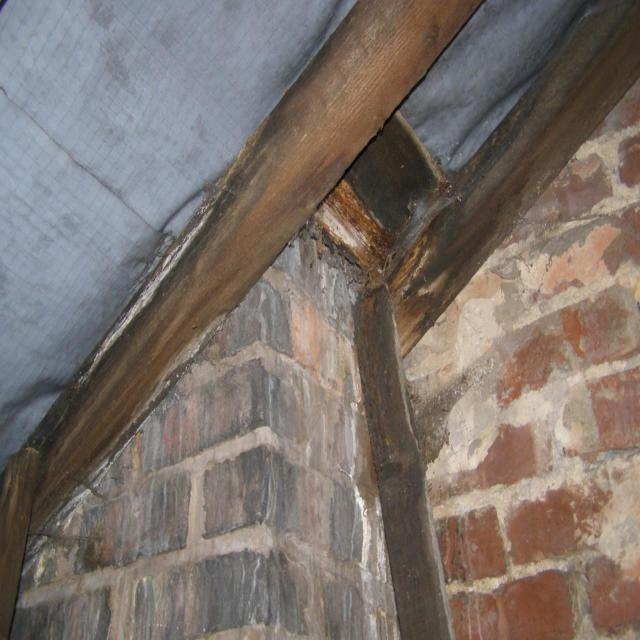damp: (404, 81, 640, 639)
rotten: (0, 0, 480, 636), (382, 0, 640, 356), (318, 115, 444, 278)
rotten_timber: (20, 0, 480, 528), (382, 0, 640, 357)
